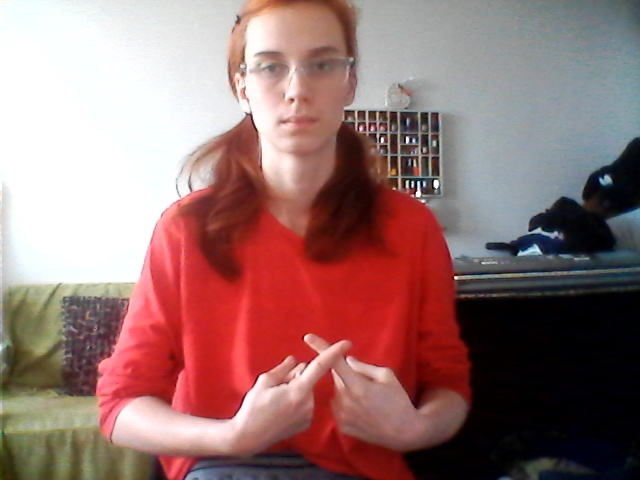x: (227, 327, 422, 463)
